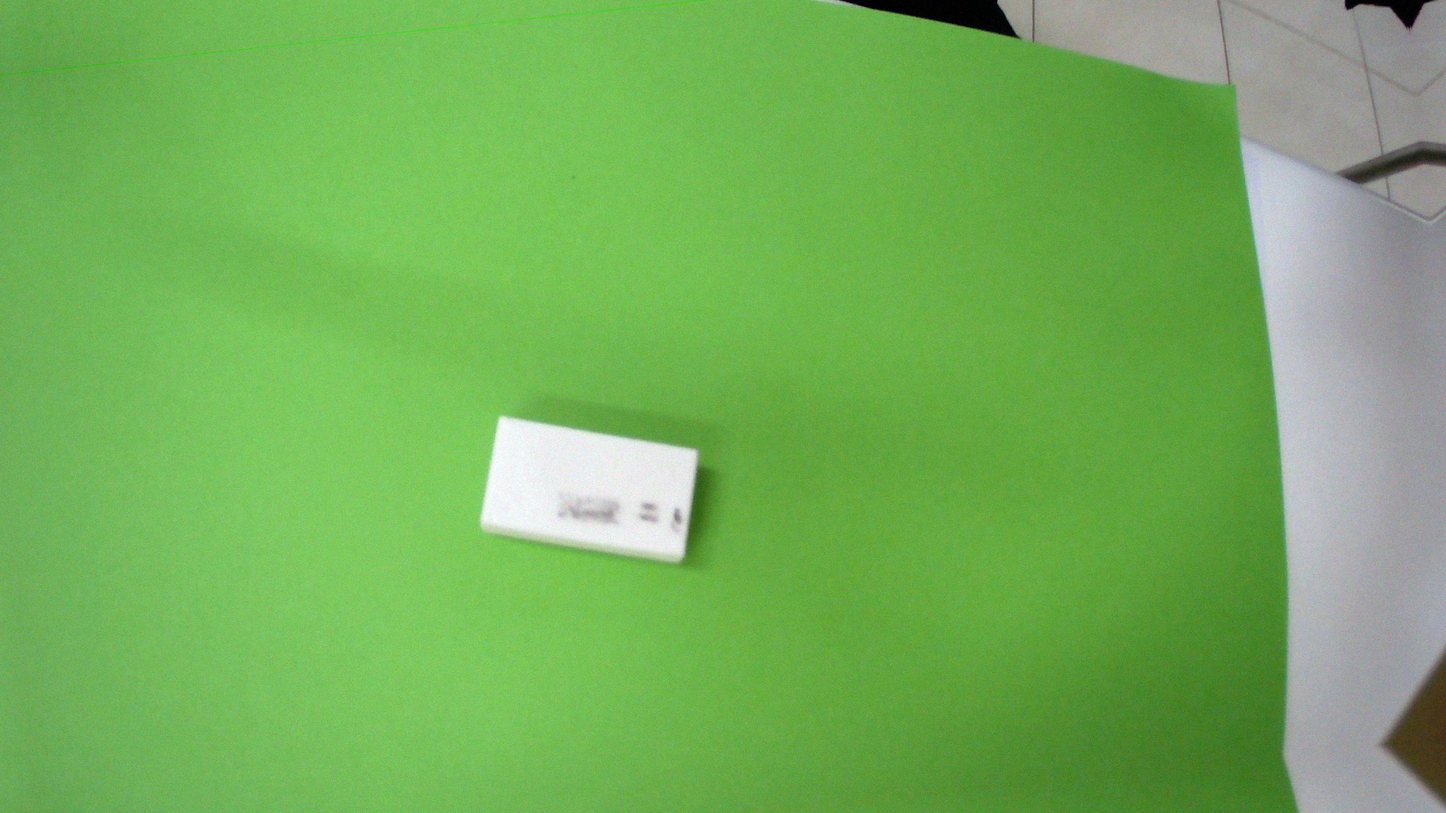gom: (468, 394, 722, 586)
